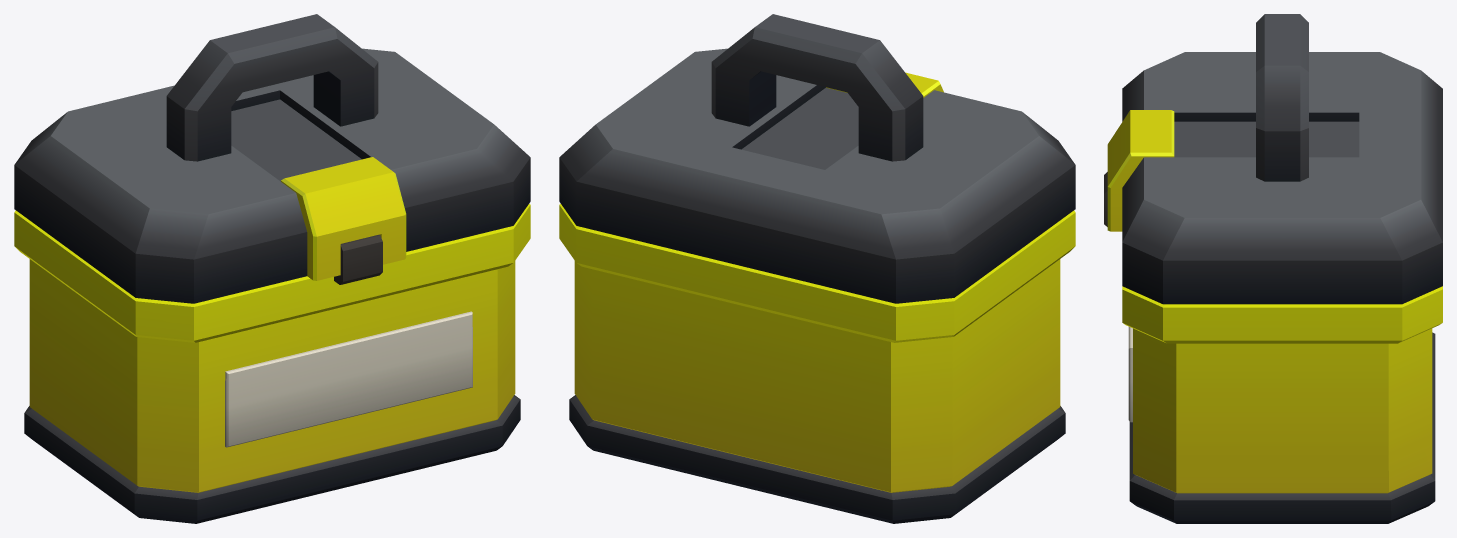
Rendered from SM_Tool_Chest_3.fbx.
3 views of the same model, side by side, from view 1: azimuth 30°, elevation 25°; view 2: azimuth 150°, elevation 25°; view 3: azimuth 270°, elevation 25° (orthographic).
Parts seen in each view (by area): view 1: Cube.002; view 2: Cube.002; view 3: Cube.002.
Part boxes in pixels (bbox=[...]): Cube.002: bbox=[14, 14, 530, 523]; Cube.002: bbox=[559, 14, 1075, 523]; Cube.002: bbox=[1104, 14, 1442, 523].
Size of the model in its own units: 60.73 by 58.69 by 45.71.
